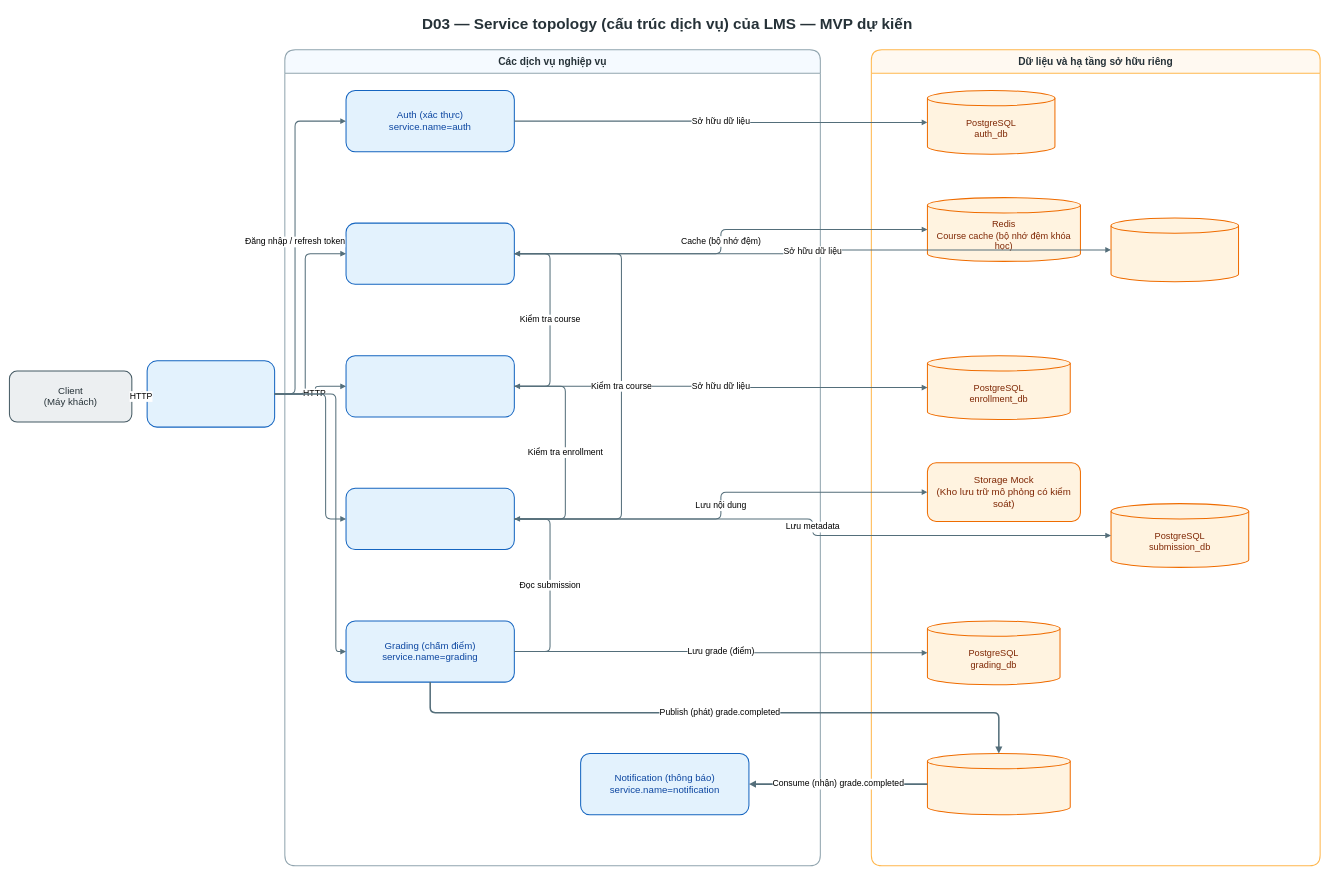
The diagram is 1329 pixels wide and 875 high, and some of its shapes have lost their labels. Each missing label, with the centre of its shape:
API Gateway (Cổng API) service.name=gateway: pixel 210 393
Course (khóa học) service.name=course: pixel 430 253
Enrollment (ghi danh) service.name=enrollment: pixel 430 386
PostgreSQL course_db: pixel 1174 249
RabbitMQ grade.completed: pixel 998 784
Submission (bài nộp) service.name=submission: pixel 430 519
